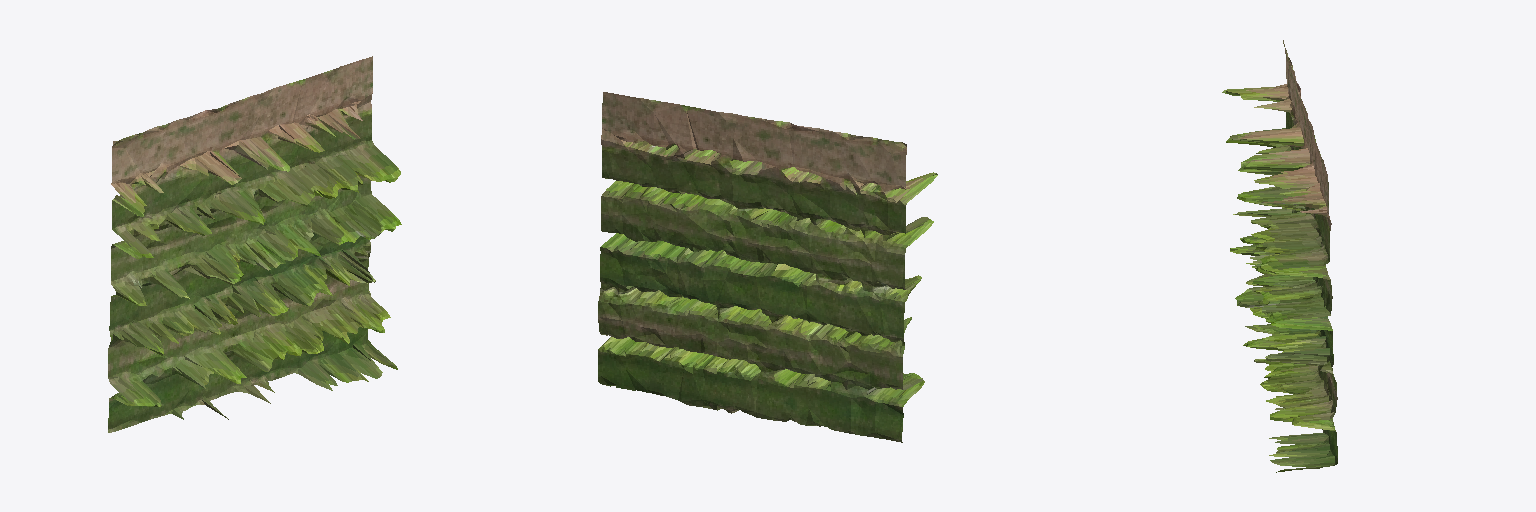
The picture shows the model from 3 angles: view 1: azimuth 30°, elevation 25°; view 2: azimuth 150°, elevation 25°; view 3: azimuth 270°, elevation 25°; orthographic projection.
Parts seen in each view (by area): view 1: grp1; view 2: grp1; view 3: grp1.
Part boxes in pixels (left/top/right/bottom): grp1: left=108, top=56, right=401, bottom=432; grp1: left=598, top=92, right=937, bottom=442; grp1: left=1222, top=40, right=1337, bottom=472.
Bounding box in the file's own units: 10 × 10 × 3.55.
1 materials, 1 textured.